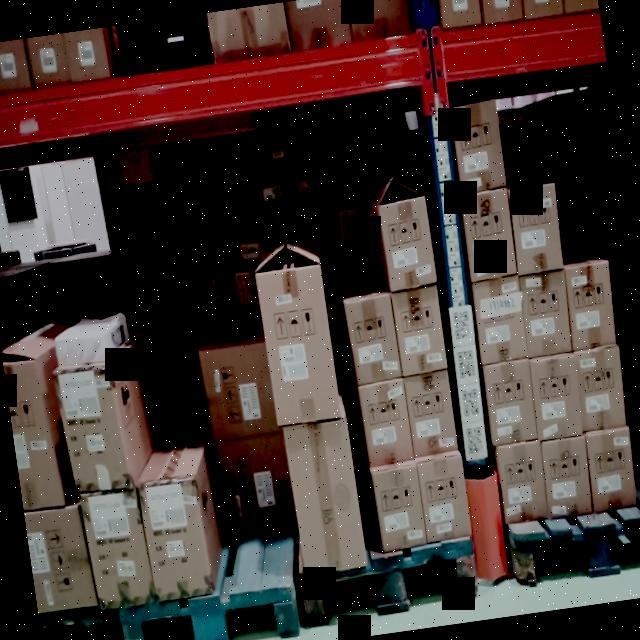box: (256, 264, 340, 426), (284, 419, 364, 574), (56, 365, 129, 493), (82, 487, 154, 611), (140, 479, 211, 604), (3, 360, 55, 510), (200, 341, 278, 440), (217, 432, 294, 526), (24, 507, 91, 615), (461, 189, 518, 279), (379, 199, 436, 289), (508, 187, 564, 273), (358, 380, 414, 466), (345, 299, 403, 382), (393, 287, 448, 373), (417, 456, 472, 542), (574, 348, 630, 432), (519, 272, 574, 357), (474, 279, 529, 363), (530, 356, 585, 439), (374, 466, 426, 550), (484, 362, 538, 442), (452, 105, 504, 188), (566, 263, 616, 348), (540, 440, 594, 518), (496, 444, 546, 524), (406, 374, 456, 454), (586, 432, 638, 508), (289, 142, 335, 208), (254, 150, 296, 214), (56, 334, 109, 368)
